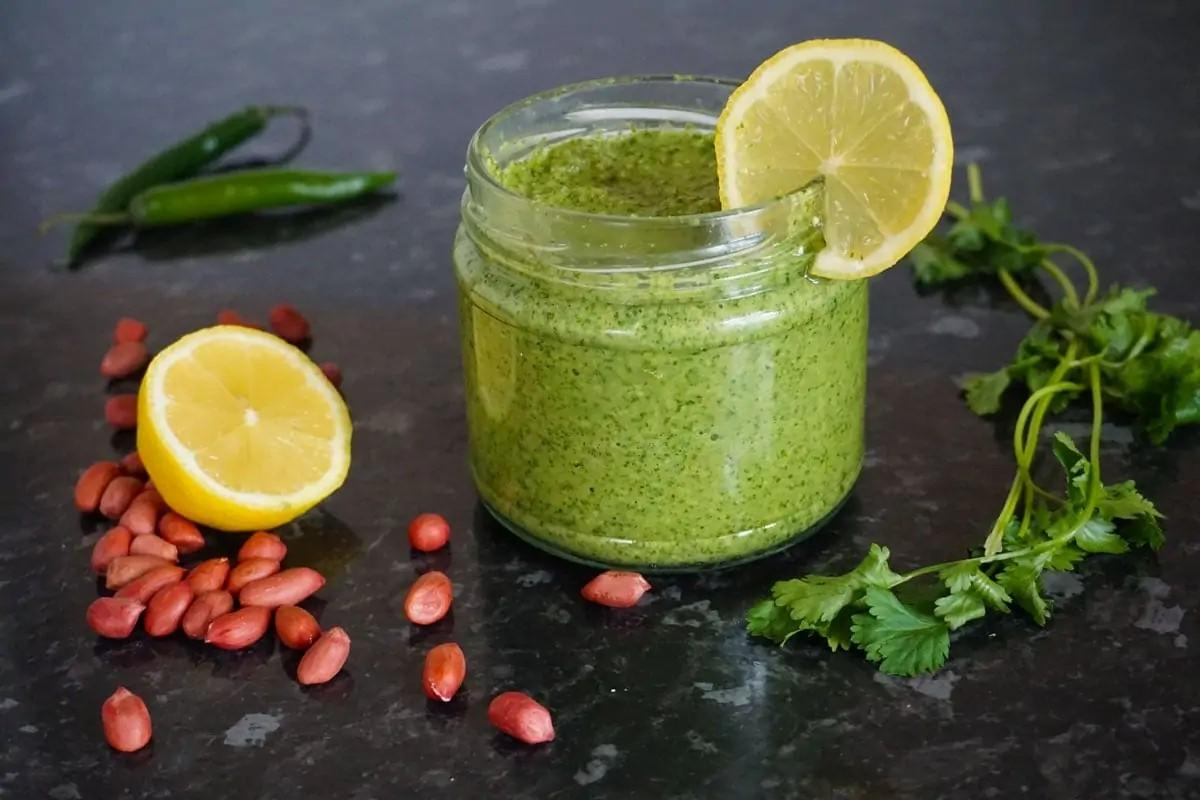GreenChutney: (453, 127, 867, 560)
